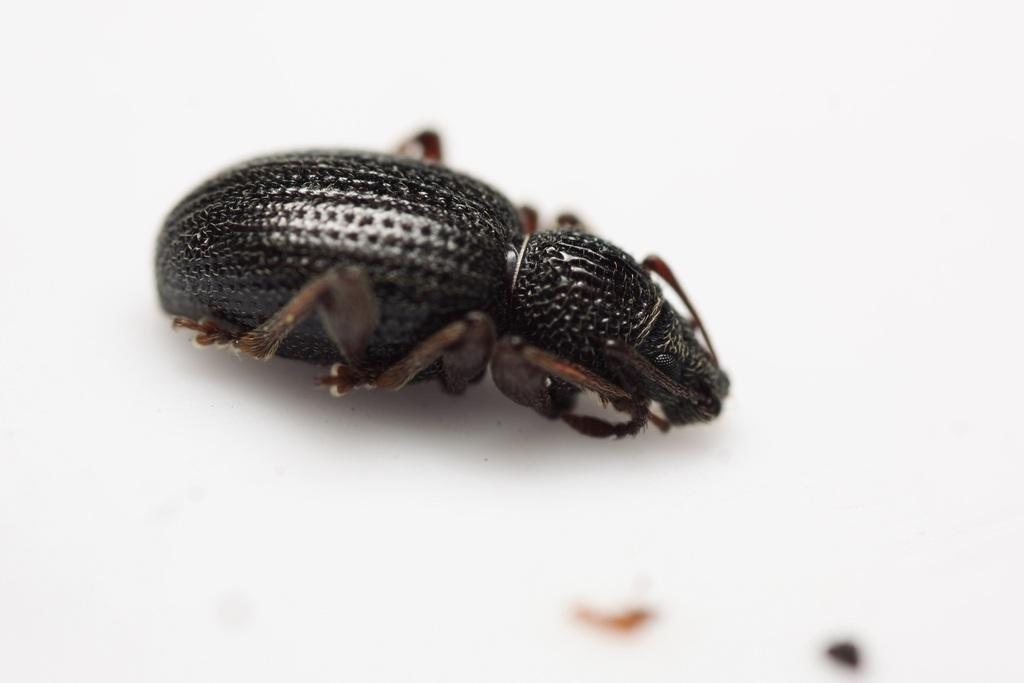weevils: (78, 40, 826, 542)
